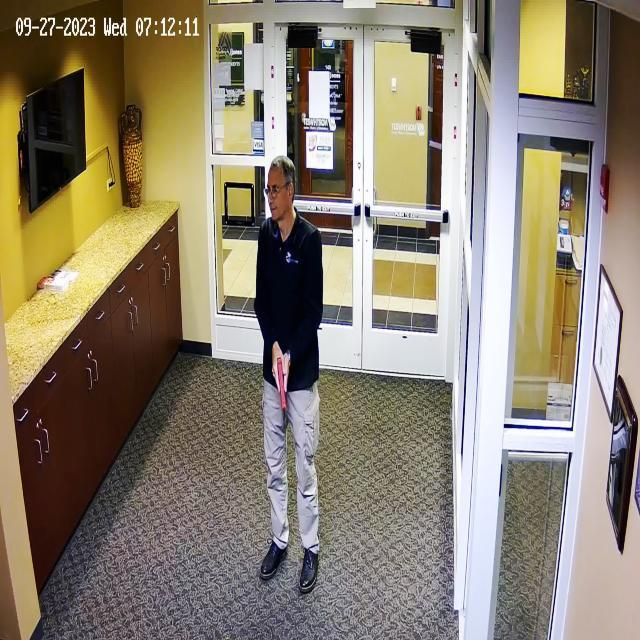Gun: (266, 352, 305, 418)
